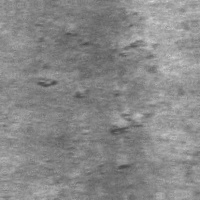rolled-in_scale: (103, 35, 173, 171), (31, 65, 95, 104)
